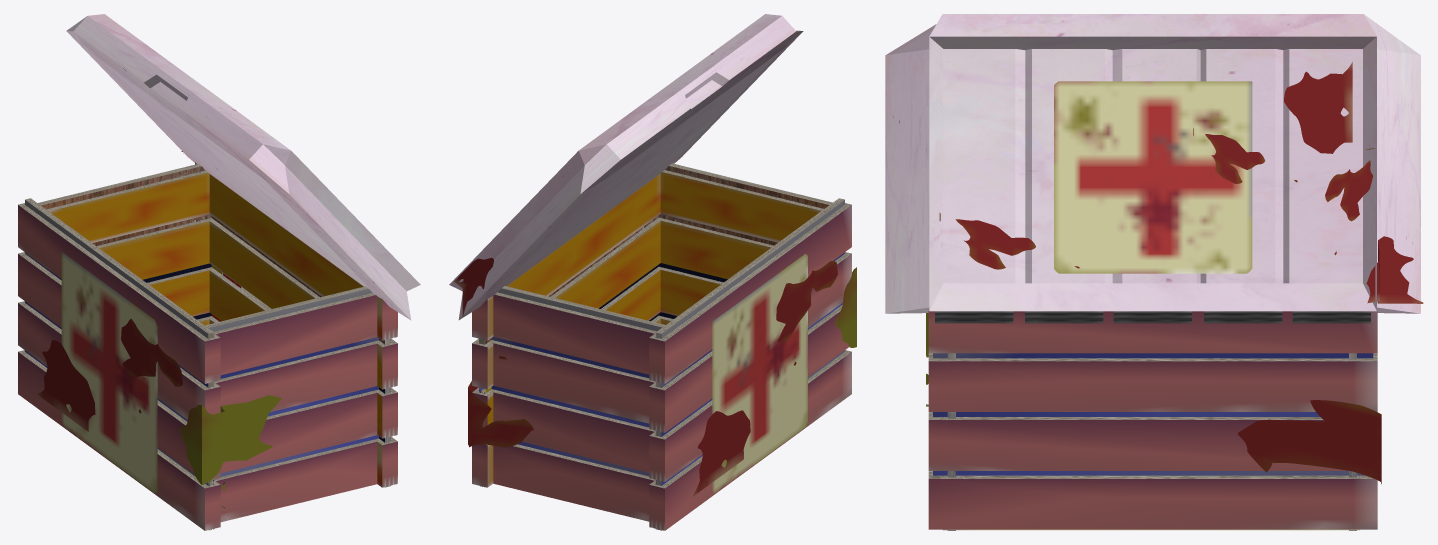
Rendered from med crate opened.obj.
The picture shows the model from 3 angles, left to right: view 1: azimuth 30°, elevation 25°; view 2: azimuth 150°, elevation 25°; view 3: azimuth 270°, elevation 25°; orthographic projection. The views are drawn at different scales.
Parts seen in each view (by area): view 1: Cube.020, cross_1_Plane.003, Plane.001, Cube.018, Cube.015, Cube.008, Cube.013, Cube.017, Cube.003, Cube.016, Cube.002, Cube.005 (+10 smaller); view 2: Cube.020, cross_1_Plane.003, Cube.012, Cube.013, Cube.010, Cube.008, Cube.011, Cube.018, Cube.003, Plane.001, Cube.002, Cube.005 (+12 smaller); view 3: Cube.020, cross_2_Plane, Cube, Cube.002, Cube.001, Cube.003, Plane.002, Cube.004, Plane.005, Plane.006, Plane.004, Cube.022 (+5 smaller).
Boxes of the visible parts, x1,y1,x2,y2 form: Cube.020: (66, 14, 420, 320); cross_1_Plane.003: (61, 252, 157, 493); Plane.001: (36, 318, 281, 509); Cube.018: (213, 293, 377, 375); Cube.015: (214, 437, 391, 522); Cube.008: (18, 203, 220, 383); Cube.013: (46, 170, 209, 242); Cube.017: (194, 339, 391, 412); Cube.003: (195, 162, 397, 340); Cube.016: (220, 388, 391, 473); Cube.002: (207, 218, 397, 389); Cube.005: (18, 350, 220, 530); Cube.020: (449, 14, 803, 319); cross_1_Plane.003: (712, 254, 807, 493); Cube.012: (478, 339, 671, 423); Cube.013: (493, 292, 656, 374); Cube.010: (493, 444, 655, 521); Cube.008: (649, 203, 851, 383); Cube.011: (478, 388, 675, 472); Cube.018: (660, 170, 823, 242); Cube.003: (472, 162, 674, 340); Plane.001: (691, 261, 856, 497); Cube.002: (472, 217, 662, 389); Cube.005: (649, 350, 851, 530); Cube.020: (885, 14, 1420, 313); cross_2_Plane: (1054, 81, 1252, 273); Cube: (928, 471, 1377, 529); Cube.002: (928, 353, 1377, 411); Cube.001: (928, 412, 1348, 470); Cube.003: (928, 311, 1377, 353); Plane.002: (1237, 400, 1381, 484); Cube.004: (933, 353, 1373, 475); Plane.005: (1193, 62, 1352, 183); Plane.006: (1325, 148, 1423, 303); Plane.004: (939, 212, 1079, 269); Cube.022: (1204, 311, 1282, 323).
Bounding box in the file's own units: 1.39 × 2.22 × 2.45.
1 material, 1 textured.
